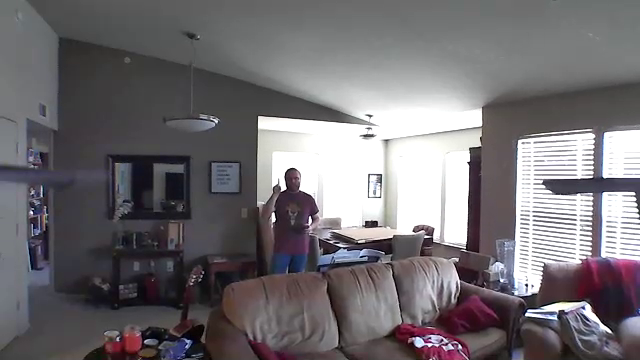up: (271, 175, 282, 195)
